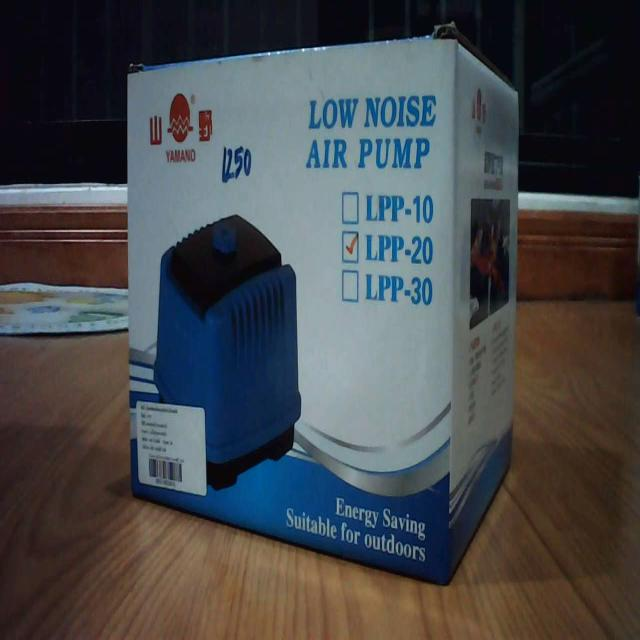YAMANO_LPP_20: (108, 20, 528, 594)
